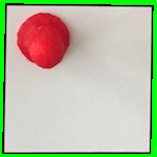Red Pawn: (14, 9, 75, 70)
